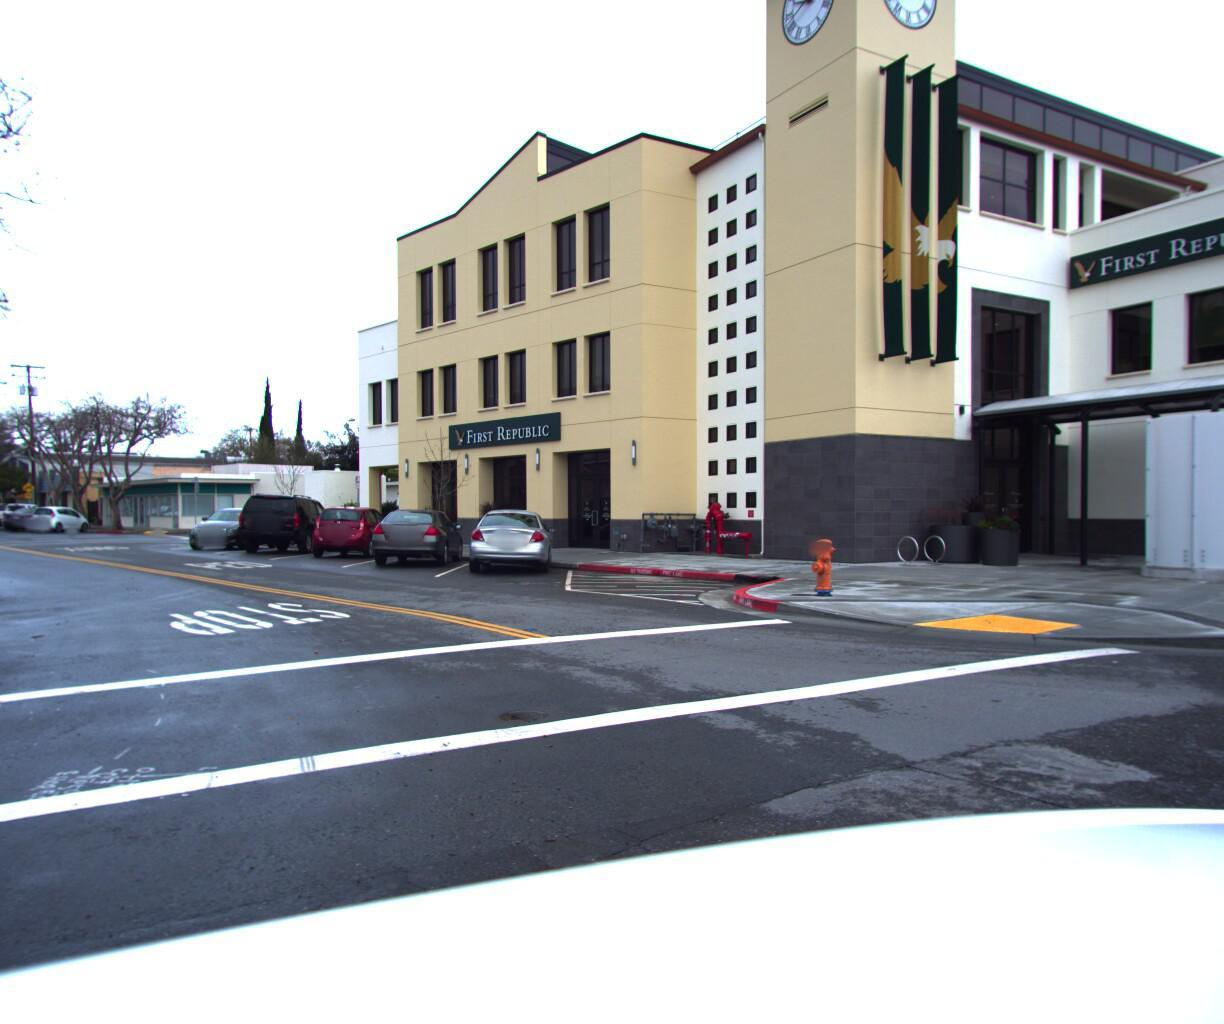car: (233, 495, 349, 559), (461, 510, 556, 582), (363, 511, 468, 574), (306, 508, 403, 563), (182, 513, 290, 558), (24, 508, 102, 538), (1, 510, 76, 538)
